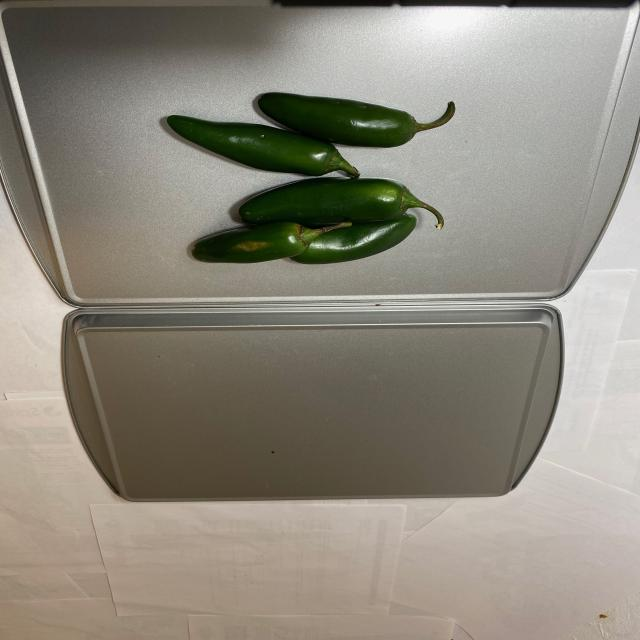chilli: (153, 73, 463, 272)
